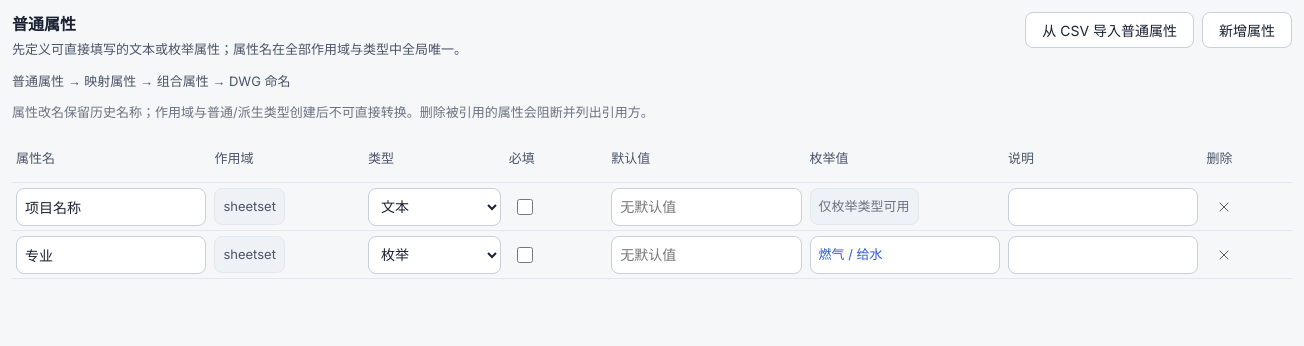
Test: OrdinaryPropertyEditor › blocks deleting an enum property used as a cascade source
What coordinates should you click on to do the following:
click the button with test id "ordinary-remove-prop-major"
I would click on:
 (1224, 254)
Its box is left=1206, top=236, right=1242, bottom=272.
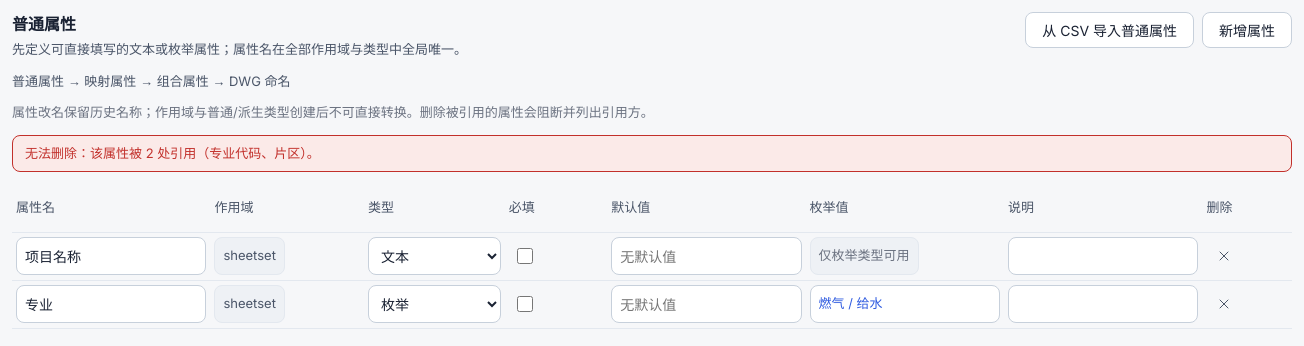
Now the message with test id "ordinary-delete-blocked" shows "片区", box left=25, top=144, right=320, bottom=160
